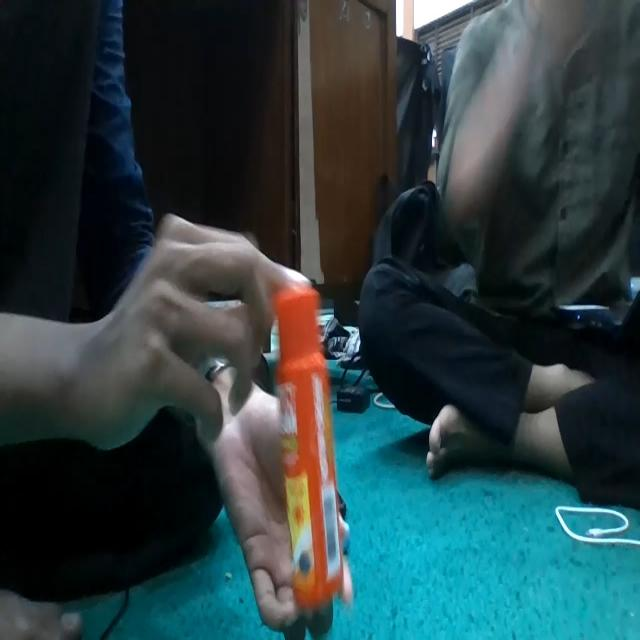Boncabe: (275, 285, 342, 610)
